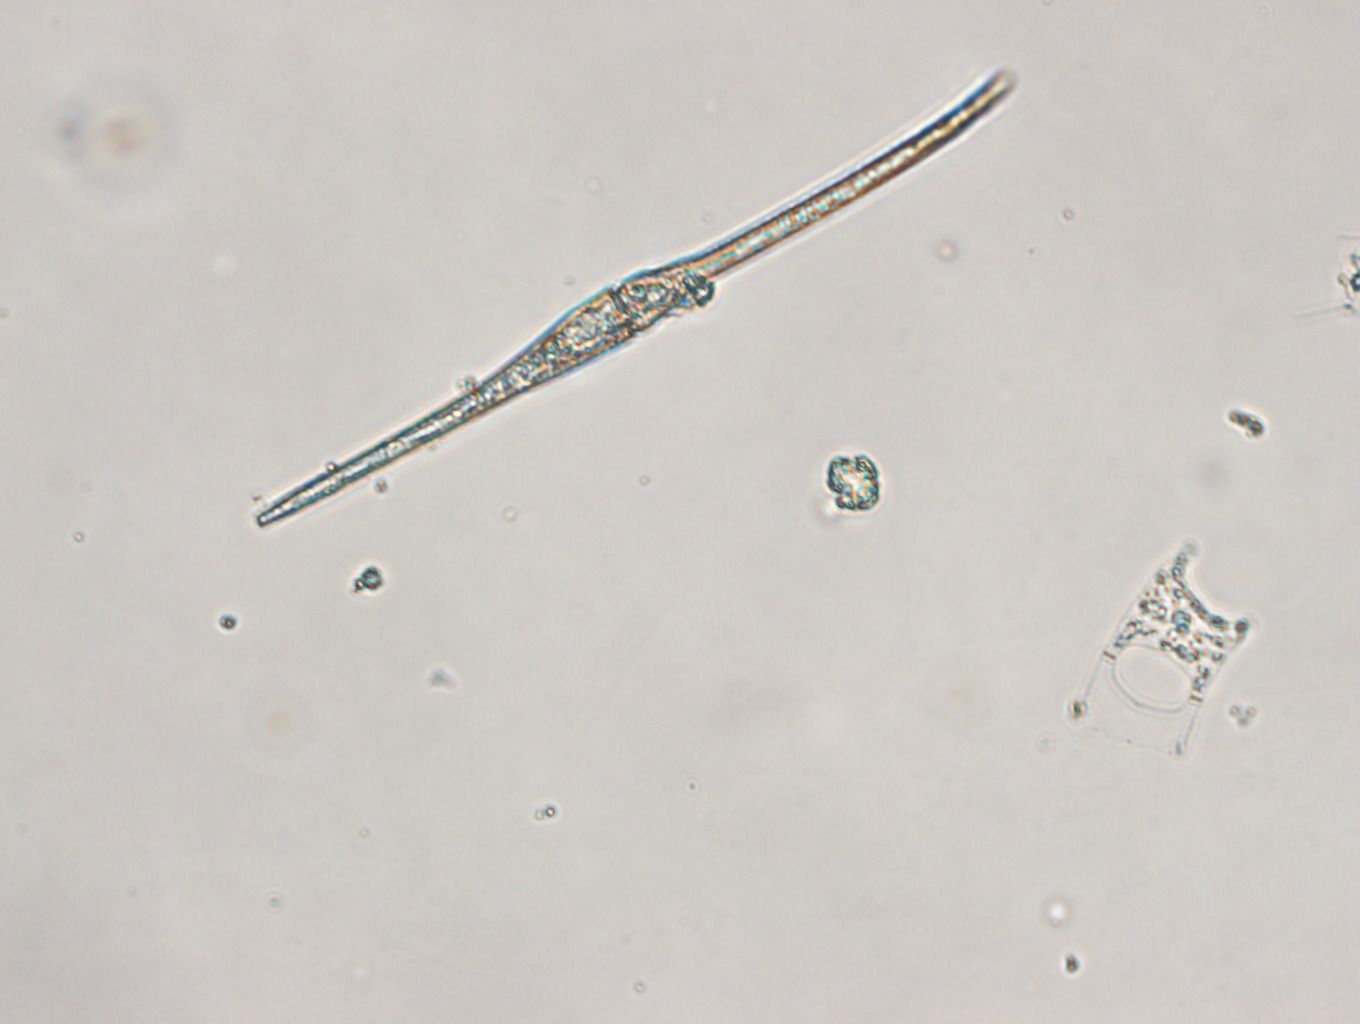ceratium fusus: (250, 66, 1035, 534)
